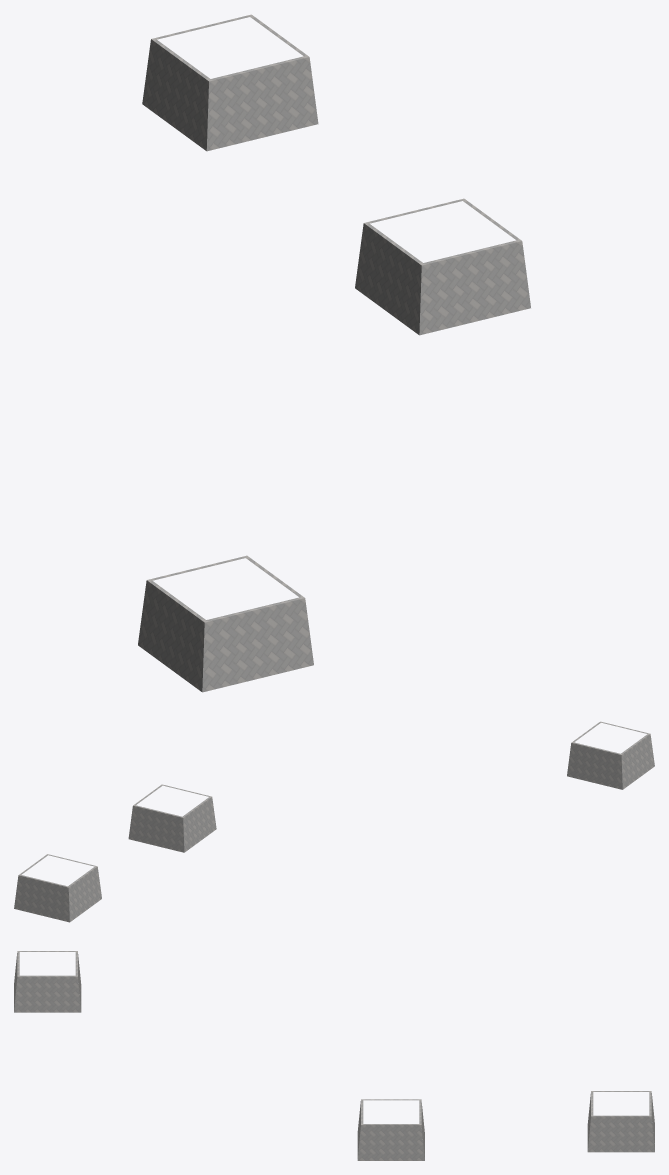
Rendered from kd_stage_136282_2_1_bounded.glb.
3 renders of one model, top to bottom at view 1: azimuth 30°, elevation 25°; view 2: azimuth 150°, elevation 25°; view 3: azimuth 270°, elevation 25°, orthographic. The views are drawn at different scales.
Parts seen in each view (by area): view 1: kd_stage_136282_2_1_bounded; view 2: kd_stage_136282_2_1_bounded; view 3: kd_stage_136282_2_1_bounded.
Boxes of the visible parts, <box> form: kd_stage_136282_2_1_bounded: <box>138,14,530,692</box>; kd_stage_136282_2_1_bounded: <box>14,721,654,922</box>; kd_stage_136282_2_1_bounded: <box>14,951,654,1160</box>.
Bounding box in the file's own units: 35.8 × 4.44 × 57.2.
Materials: 1 (1 with a texture image).
